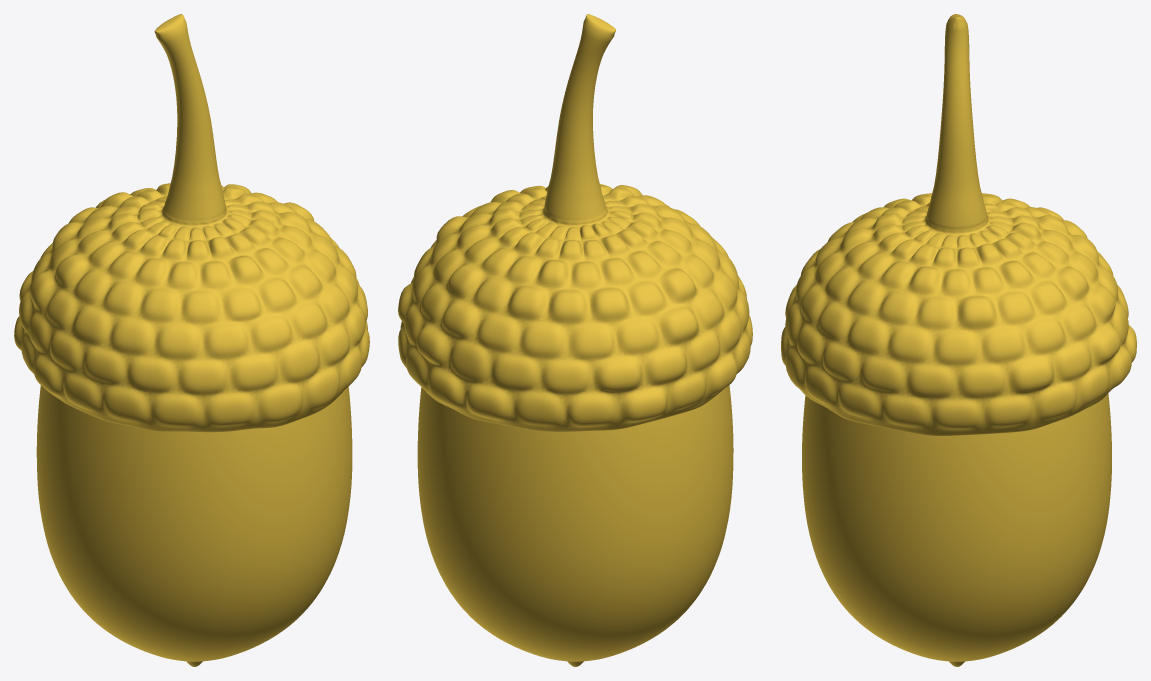
The model's file is nut.gltf.
The picture shows the model from 3 angles, left to right: view 1: azimuth 30°, elevation 25°; view 2: azimuth 150°, elevation 25°; view 3: azimuth 270°, elevation 25°; orthographic projection.
Visible parts, largest first — view 1: 17102_Acorn_v1_NEW; view 2: 17102_Acorn_v1_NEW; view 3: 17102_Acorn_v1_NEW.
Boxes of the visible parts, x1,y1,x2,y2 form: 17102_Acorn_v1_NEW: [14, 14, 369, 666]; 17102_Acorn_v1_NEW: [398, 14, 752, 666]; 17102_Acorn_v1_NEW: [781, 14, 1136, 666].
Size of the model in its own units: 2.11 by 4.34 by 2.18.
